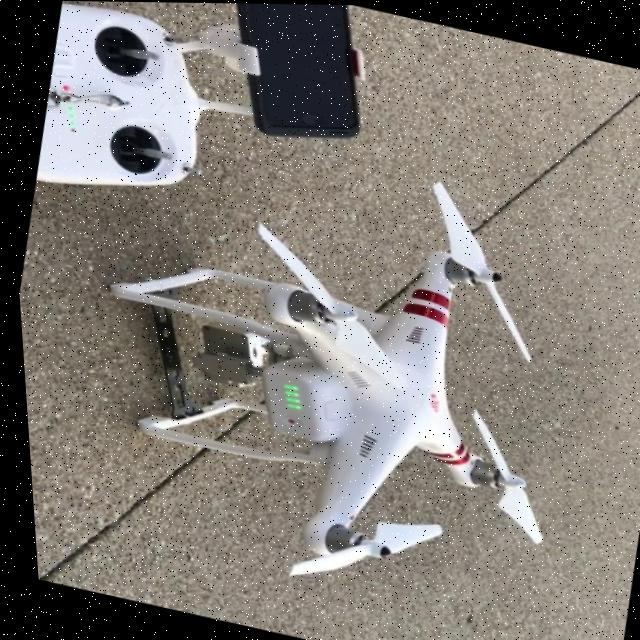drones: (33, 99, 625, 635)
